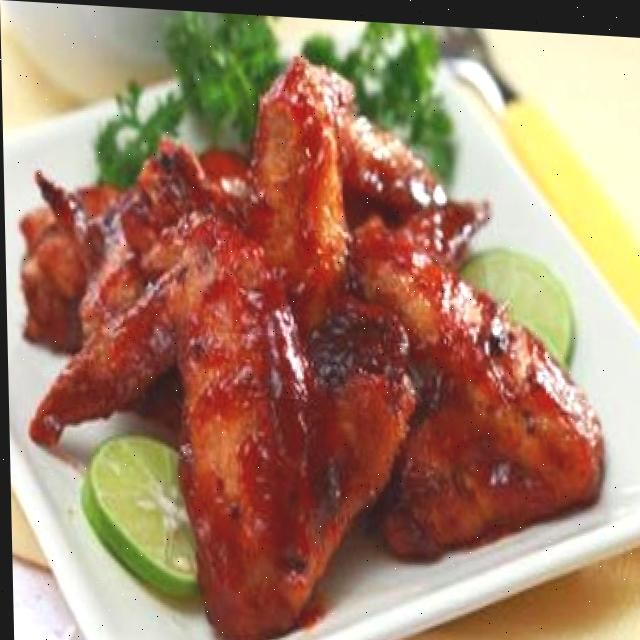鸡肉料理 含炸鸡: (22, 1, 602, 638)
